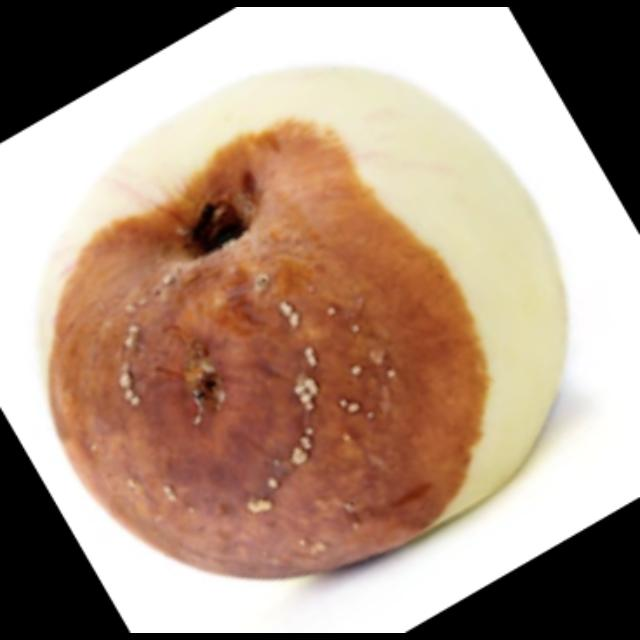Apel Tidak Segar: (32, 56, 570, 588)
